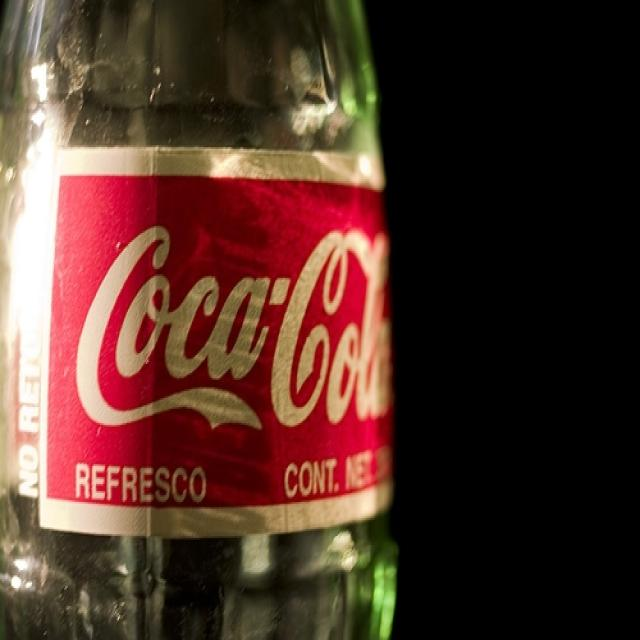cocacola: (73, 218, 393, 446)
